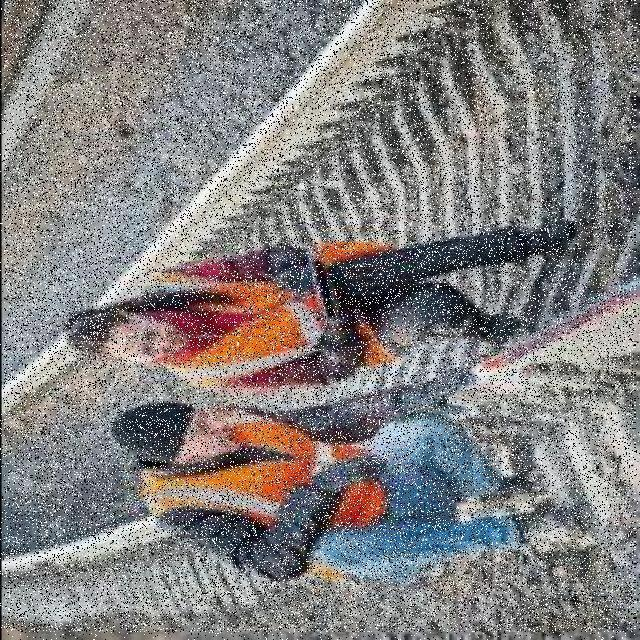rail: (6, 1, 636, 633)
